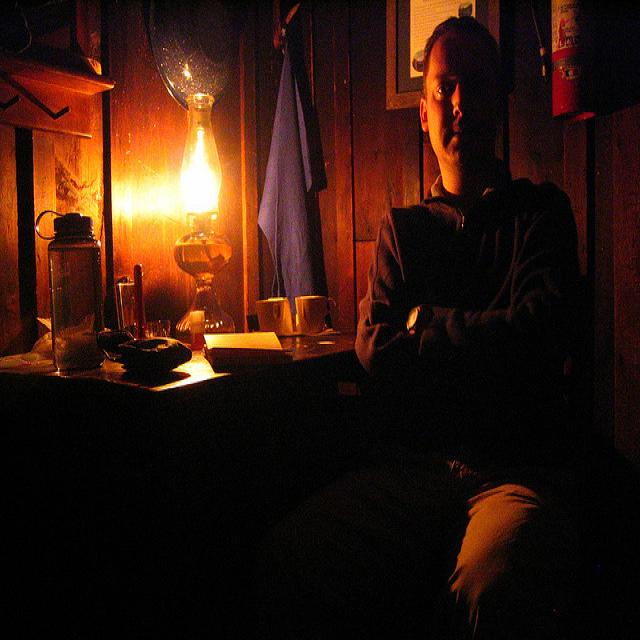Bottle: (36, 197, 102, 374)
Cup: (254, 282, 297, 347), (297, 282, 333, 351)
People: (399, 9, 603, 640)
Table: (6, 304, 392, 640)
